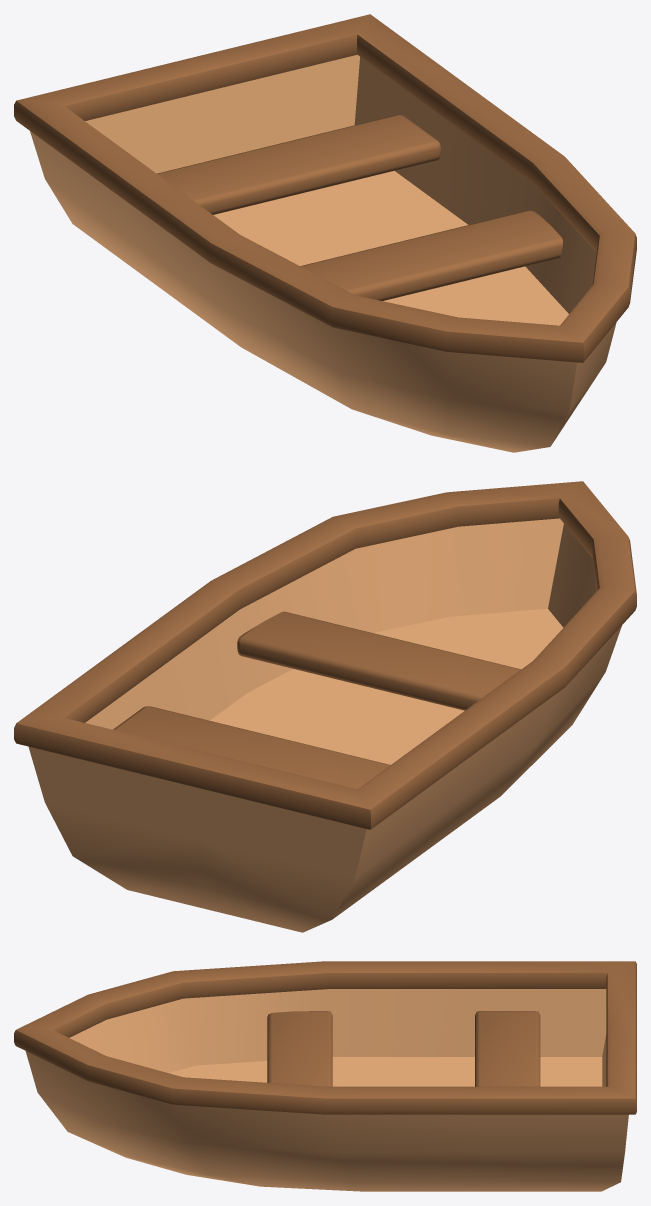
File: Boat_01.fbx
3 views of the same model, one above another, from view 1: azimuth 30°, elevation 25°; view 2: azimuth 150°, elevation 25°; view 3: azimuth 270°, elevation 25° (orthographic). The views are drawn at different scales.
Parts seen in each view (by area): view 1: Boat_01; view 2: Boat_01; view 3: Boat_01.
Boxes of the visible parts, bbox=[...] form: Boat_01: bbox=[14, 14, 636, 452]; Boat_01: bbox=[14, 481, 636, 932]; Boat_01: bbox=[14, 961, 636, 1191].
Size of the model in its own units: 2264 by 983 by 4303.
